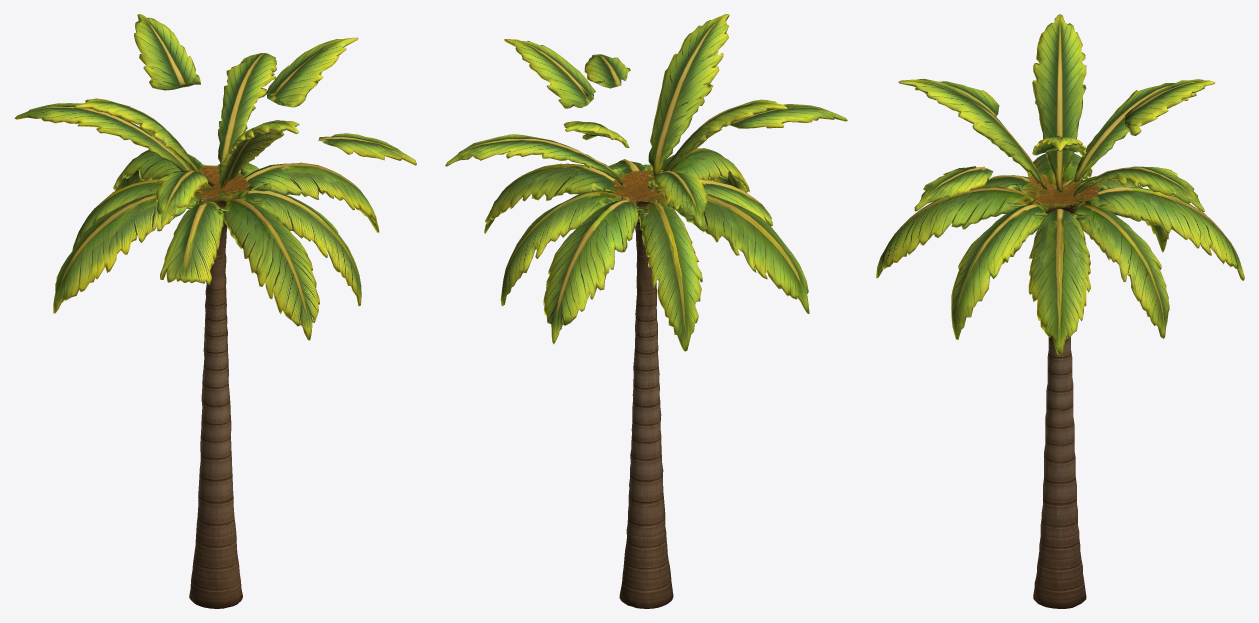
File: palmera2.glb
3 renders of one model, left to right at view 1: azimuth 30°, elevation 25°; view 2: azimuth 150°, elevation 25°; view 3: azimuth 270°, elevation 25°, orthographic.
Size of the model in its own units: 1.23 by 1.91 by 1.23.
1 material, 1 textured.
